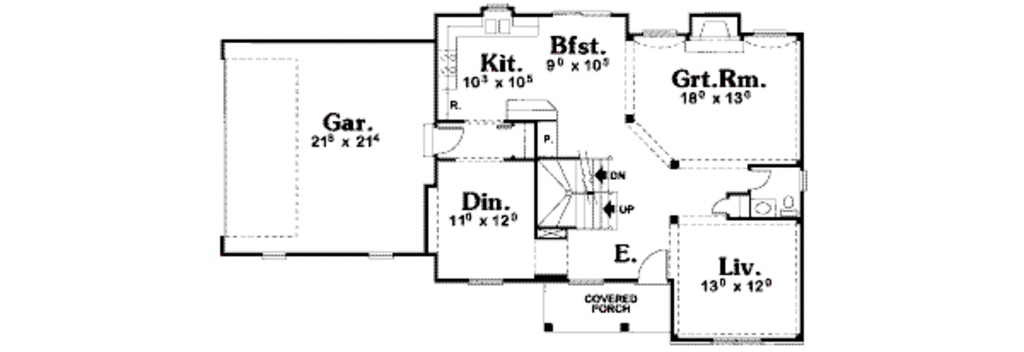door: (423, 120, 469, 160), (632, 246, 670, 286), (749, 165, 774, 190), (708, 192, 731, 217)
large_sink: (780, 194, 800, 220)
small_sink: (751, 198, 779, 224)
stairs: (533, 153, 642, 232)
twin_sink: (478, 12, 516, 40)
window: (704, 329, 766, 352), (549, 5, 613, 23), (639, 26, 681, 42), (749, 28, 786, 42), (255, 248, 288, 262), (565, 276, 604, 287), (463, 277, 505, 287), (362, 251, 398, 261)
